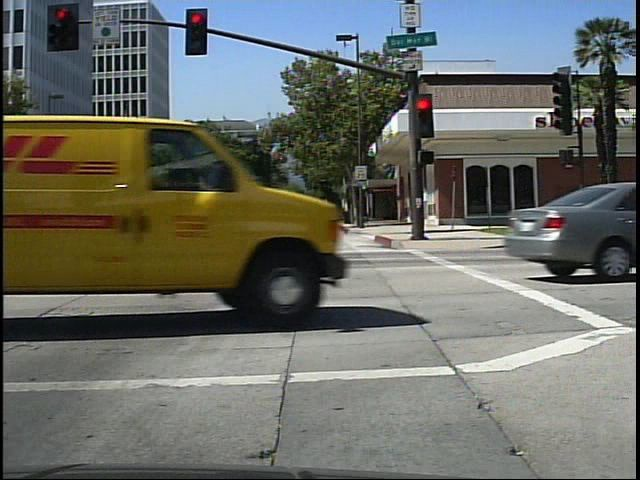person: (279, 204, 292, 222)
